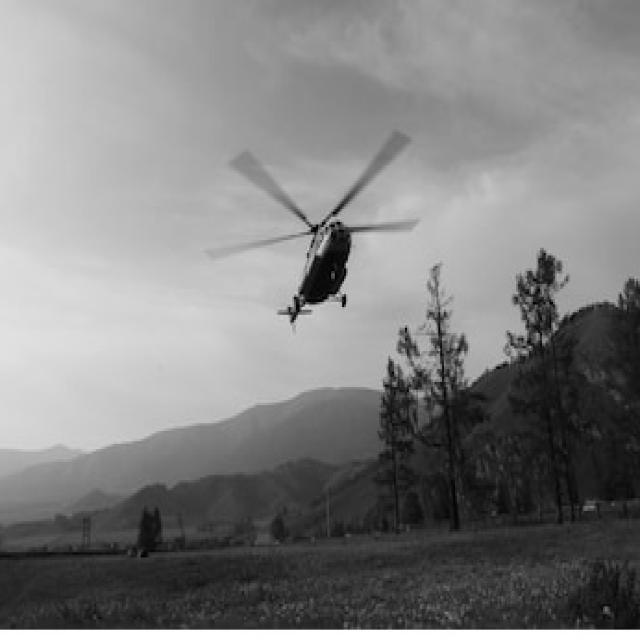helicopter: (219, 141, 421, 319)
